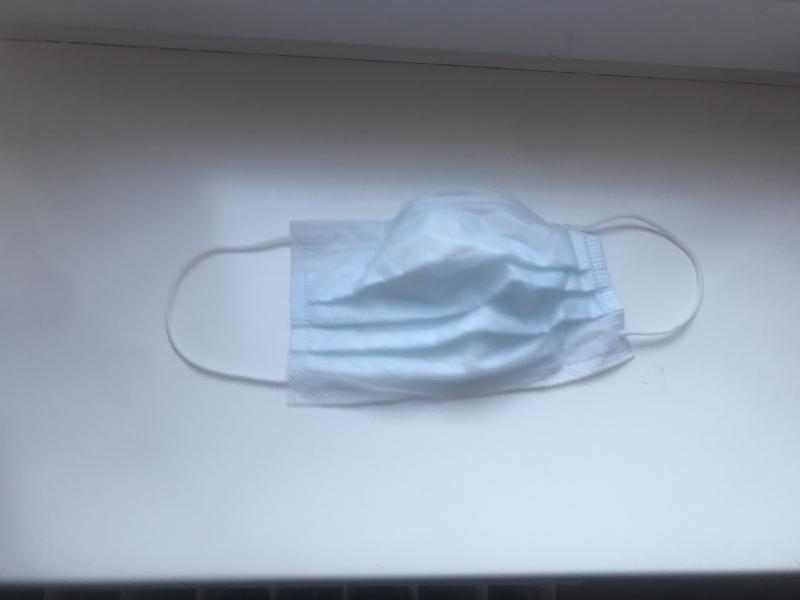medical_mask: (164, 190, 705, 405)
